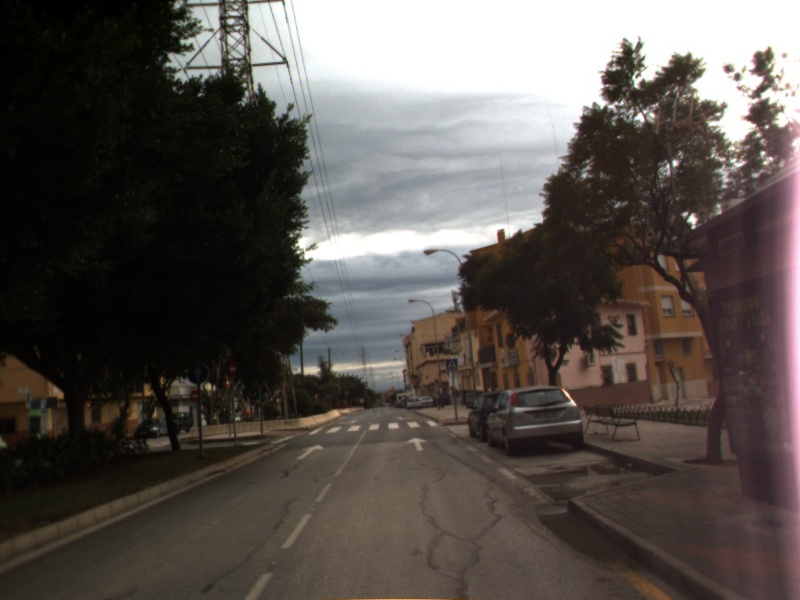STRAIGHT: (295, 442, 326, 461), (404, 435, 430, 453)
